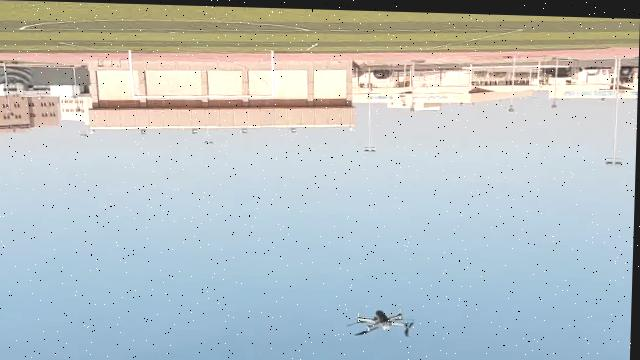drone: (345, 301, 421, 341)
